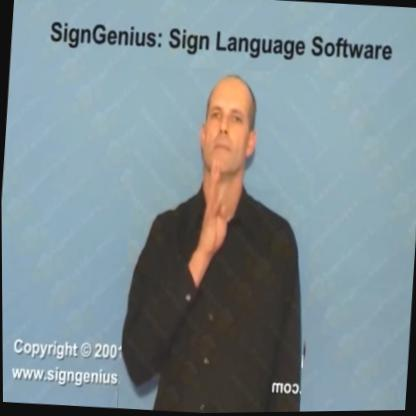Talk: (114, 62, 322, 415)
